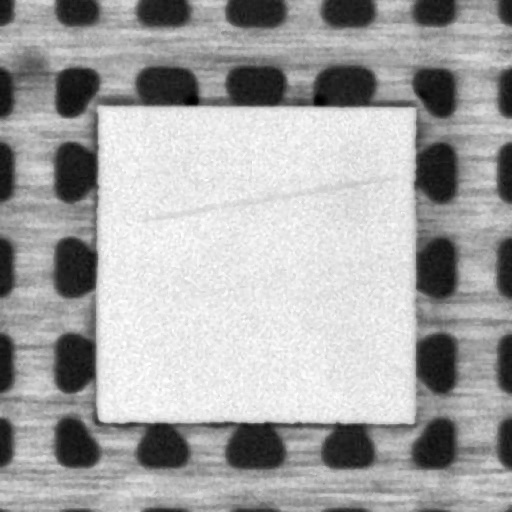DIE_CRACK: (143, 176, 395, 220)
